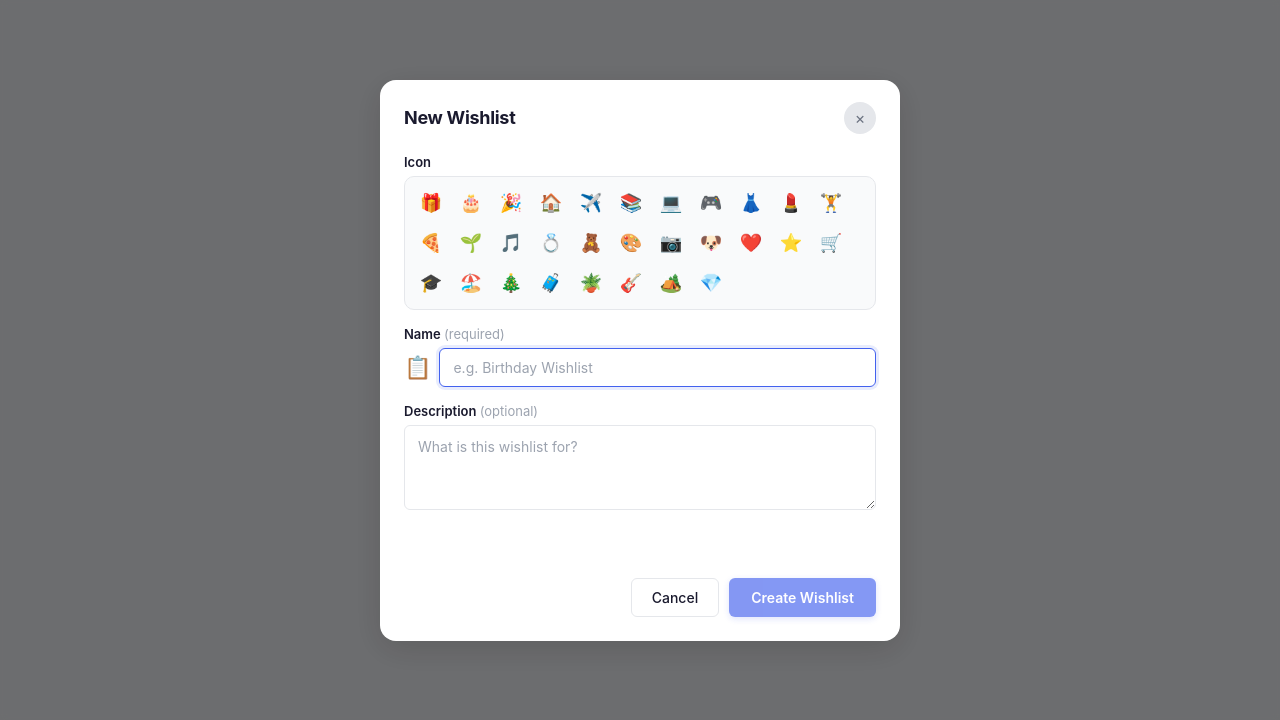
Test case: NewWishlistModal – layout › Create Wishlist button is enabled once name is typed
The image size is (1280, 720).
Type "My List" into the field labelled "Name (required)".
click(658, 367); type("My List")  # box [440, 348, 876, 386]
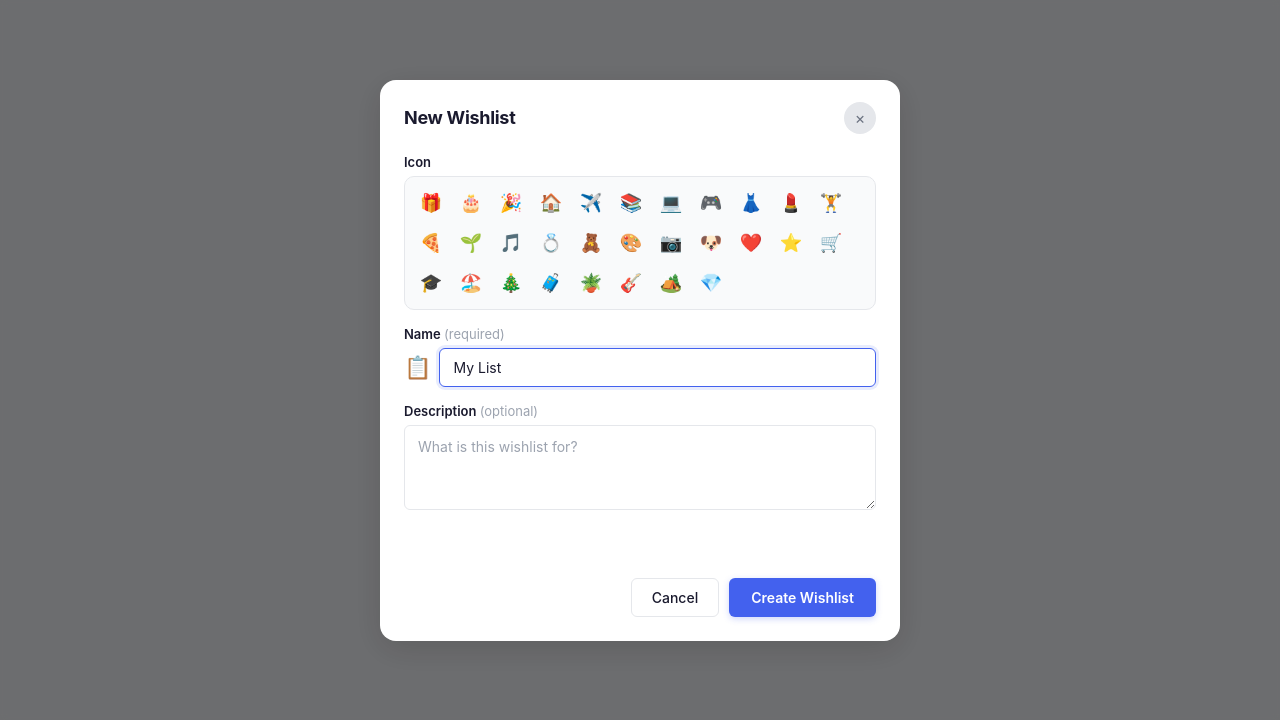
Now the button "Create Wishlist" is enabled, box [729, 578, 876, 616]
